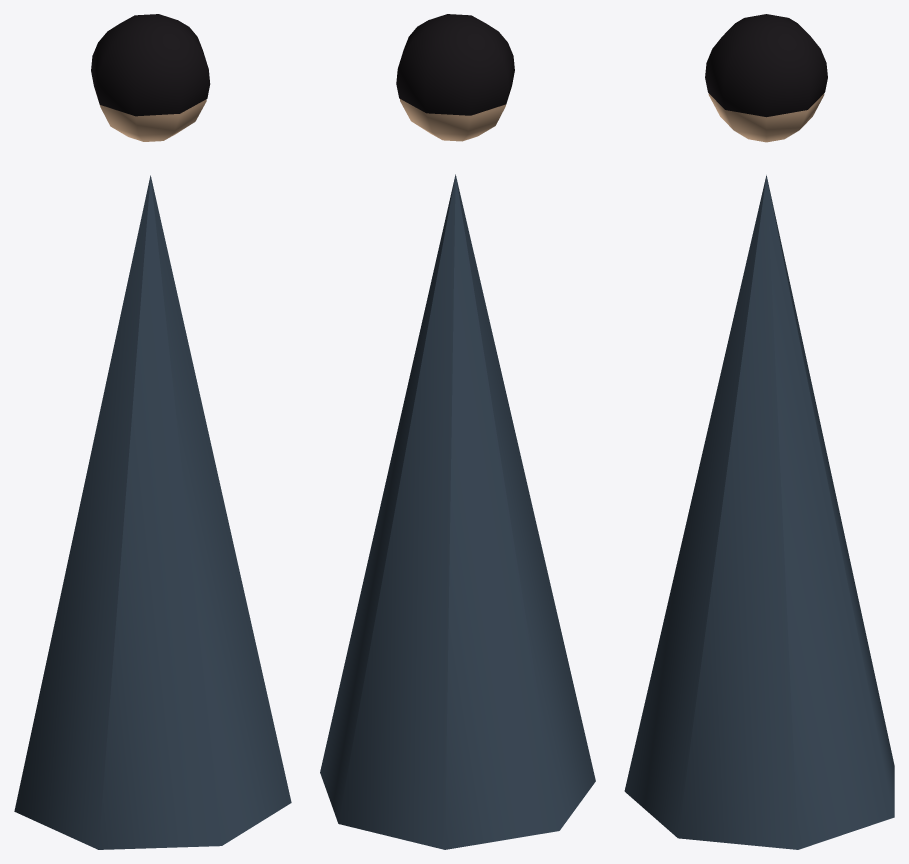
Rendered from villager_2.glb.
3 views of the same model, side by side, from view 1: azimuth 30°, elevation 25°; view 2: azimuth 150°, elevation 25°; view 3: azimuth 270°, elevation 25° (orthographic).
Size of the model in its own units: 0.468 by 1.44 by 0.4562.
